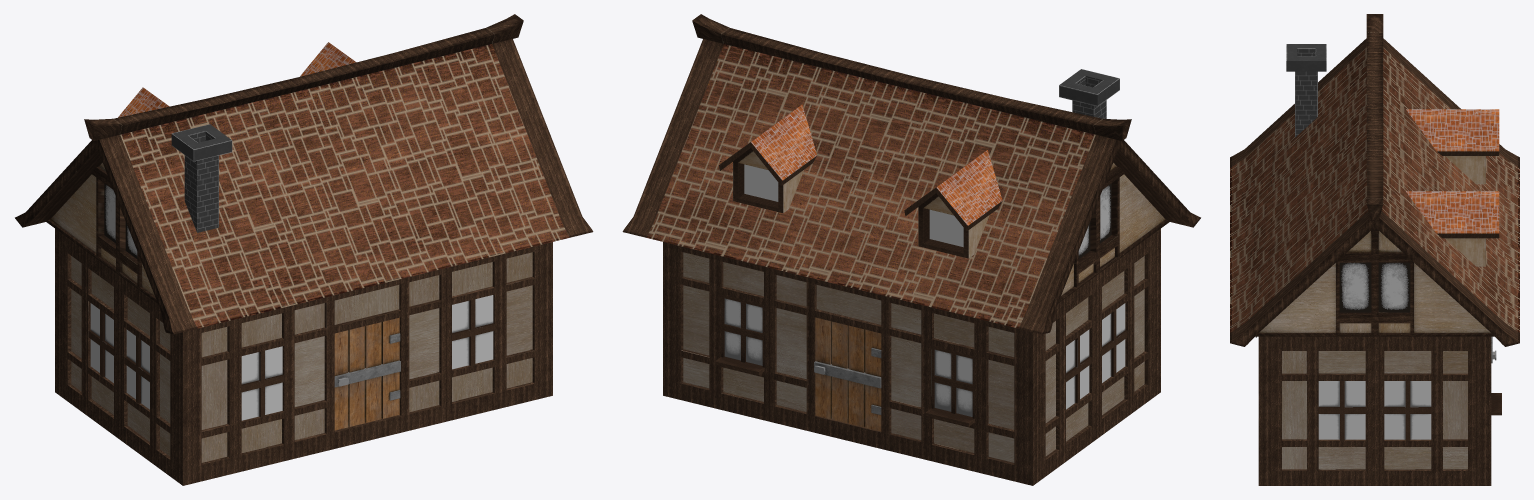
The model's file is House_6.fbx.
The picture shows the model from 3 angles, left to right: view 1: azimuth 30°, elevation 25°; view 2: azimuth 150°, elevation 25°; view 3: azimuth 270°, elevation 25°; orthographic projection. The views are drawn at different scales.
Parts seen in each view (by area): view 1: roof1, block1, door1, Chimney1, window7, window6, window5, window2, roof_window2, roof_window1; view 2: roof1, block1, door, roof_window1, roof_window2, window1, window4, Chimney1, window5, window2; view 3: roof1, block1, roof_window2, roof_window1, window56, window55, Chimney1.
Boxes of the visible parts, left/top/right/bottom form: roof1: left=15, top=14, right=593, bottom=334; block1: left=55, top=228, right=552, bottom=485; door1: left=334, top=317, right=400, bottom=430; Chimney1: left=171, top=124, right=232, bottom=232; window7: left=452, top=295, right=494, bottom=369; window6: left=241, top=346, right=283, bottom=420; window5: left=124, top=329, right=149, bottom=409; window2: left=88, top=303, right=113, bottom=382; roof_window2: left=300, top=42, right=356, bottom=76; roof_window1: left=118, top=87, right=169, bottom=117; roof1: left=622, top=14, right=1200, bottom=334; block1: left=663, top=228, right=1160, bottom=485; door: left=814, top=317, right=881, bottom=431; roof_window1: left=904, top=150, right=1002, bottom=258; roof_window2: left=719, top=105, right=816, bottom=213; window1: left=715, top=294, right=764, bottom=374; window4: left=925, top=346, right=974, bottom=426; Chimney1: left=1059, top=69, right=1119, bottom=118; window5: left=1102, top=303, right=1127, bottom=382; window2: left=1066, top=329, right=1091, bottom=409; roof1: left=1230, top=14, right=1519, bottom=346; block1: left=1258, top=336, right=1491, bottom=485; roof_window2: left=1406, top=191, right=1499, bottom=266; roof_window1: left=1406, top=109, right=1499, bottom=184; window56: left=1384, top=381, right=1431, bottom=440; window55: left=1318, top=381, right=1365, bottom=440; Chimney1: left=1286, top=44, right=1326, bottom=137.
Bounding box in the file's own units: 11.43 × 8.22 × 7.32.
